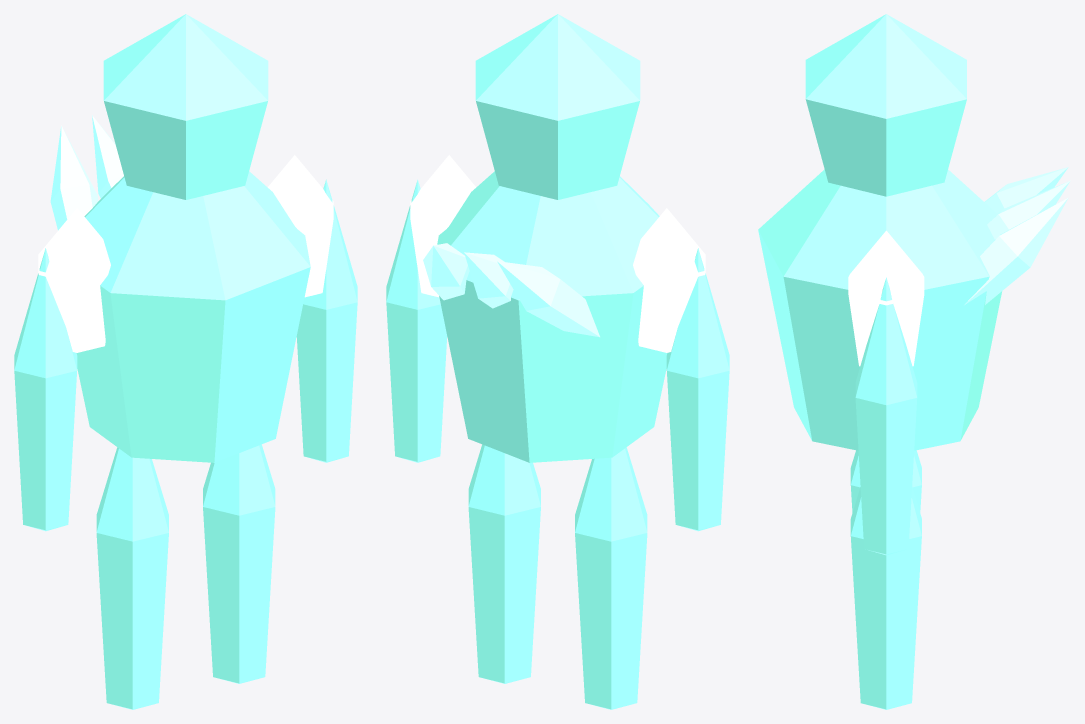
The model's file is deep-fracture-creature-CrystalRevenant-spirit.glb.
3 views of the same model, side by side, from view 1: azimuth 30°, elevation 25°; view 2: azimuth 150°, elevation 25°; view 3: azimuth 270°, elevation 25° (orthographic).
Visible parts, largest first — view 1: torso, helmet, leg-l, leg-r, arm-l, arm-r, armor-core-l, armor-core-r, back-crystal-0, back-crystal-1; view 2: torso, helmet, leg-l, leg-r, arm-l, arm-r, armor-core-l, armor-core-r, back-crystal-0, back-crystal-2, back-crystal-1; view 3: torso, helmet, arm-r, leg-r, armor-core-r, back-crystal-2, back-crystal-1, back-crystal-0, leg-l.
Boxes of the visible parts, box(x1,y1,x2,y2) form: torso: box(76, 171, 310, 462); helmet: box(103, 14, 268, 199); leg-l: box(96, 447, 168, 709); leg-r: box(203, 444, 275, 683); arm-l: box(14, 248, 77, 531); arm-r: box(296, 179, 357, 462); armor-core-l: box(38, 208, 110, 352); armor-core-r: box(267, 155, 333, 297); back-crystal-0: box(50, 125, 98, 230); back-crystal-1: box(92, 115, 123, 198); torso: box(437, 171, 667, 462); helmet: box(475, 14, 640, 199); leg-l: box(575, 447, 647, 709); leg-r: box(468, 444, 540, 683); arm-l: box(666, 248, 729, 531); arm-r: box(386, 179, 447, 462); armor-core-l: box(633, 208, 705, 352); armor-core-r: box(410, 155, 476, 297); back-crystal-0: box(497, 261, 599, 337); back-crystal-2: box(423, 243, 469, 300); back-crystal-1: box(464, 252, 513, 308); torso: box(758, 169, 1002, 450); helmet: box(805, 14, 966, 196); arm-r: box(855, 277, 917, 555); leg-r: box(850, 487, 921, 709); armor-core-r: box(848, 230, 924, 366); back-crystal-2: box(964, 197, 1068, 305); back-crystal-1: box(987, 180, 1070, 239); back-crystal-0: box(984, 167, 1068, 213); leg-l: box(850, 450, 921, 512).
Bounding box in the file's own units: 1.42 × 2.7 × 1.14.
